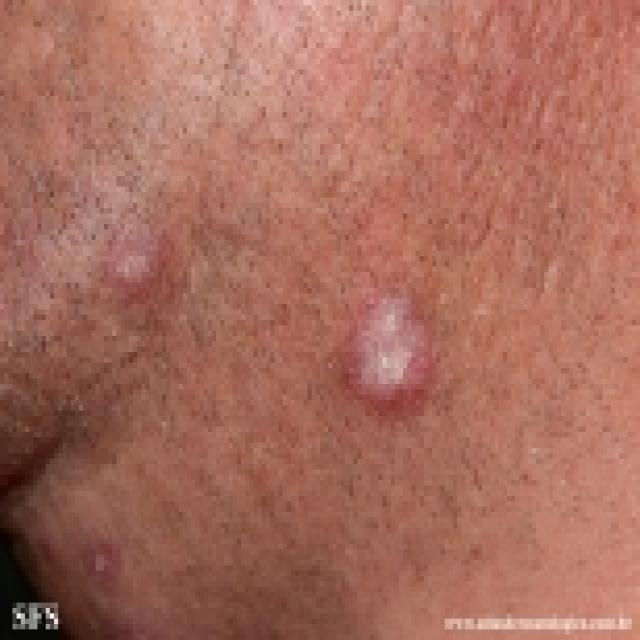lupus: (54, 182, 438, 434)
